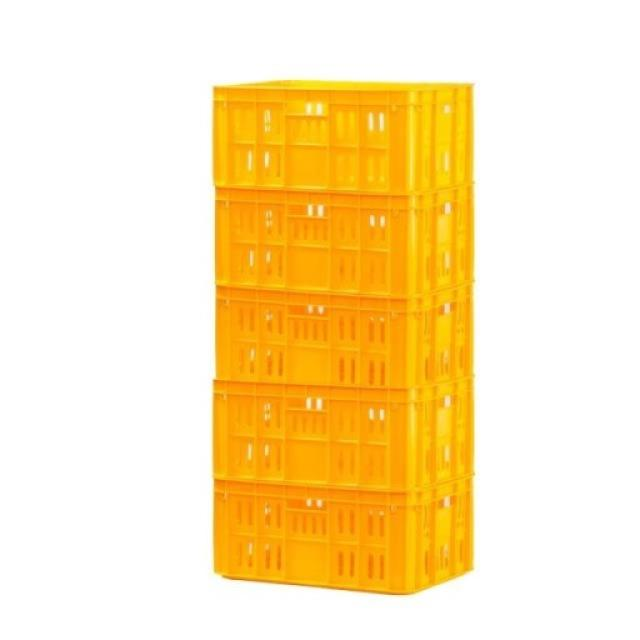basket: (216, 81, 474, 595)
